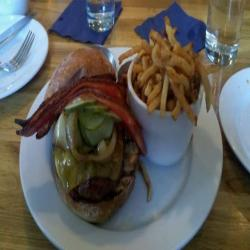burger: (52, 58, 146, 229)
fries: (125, 32, 210, 124)
